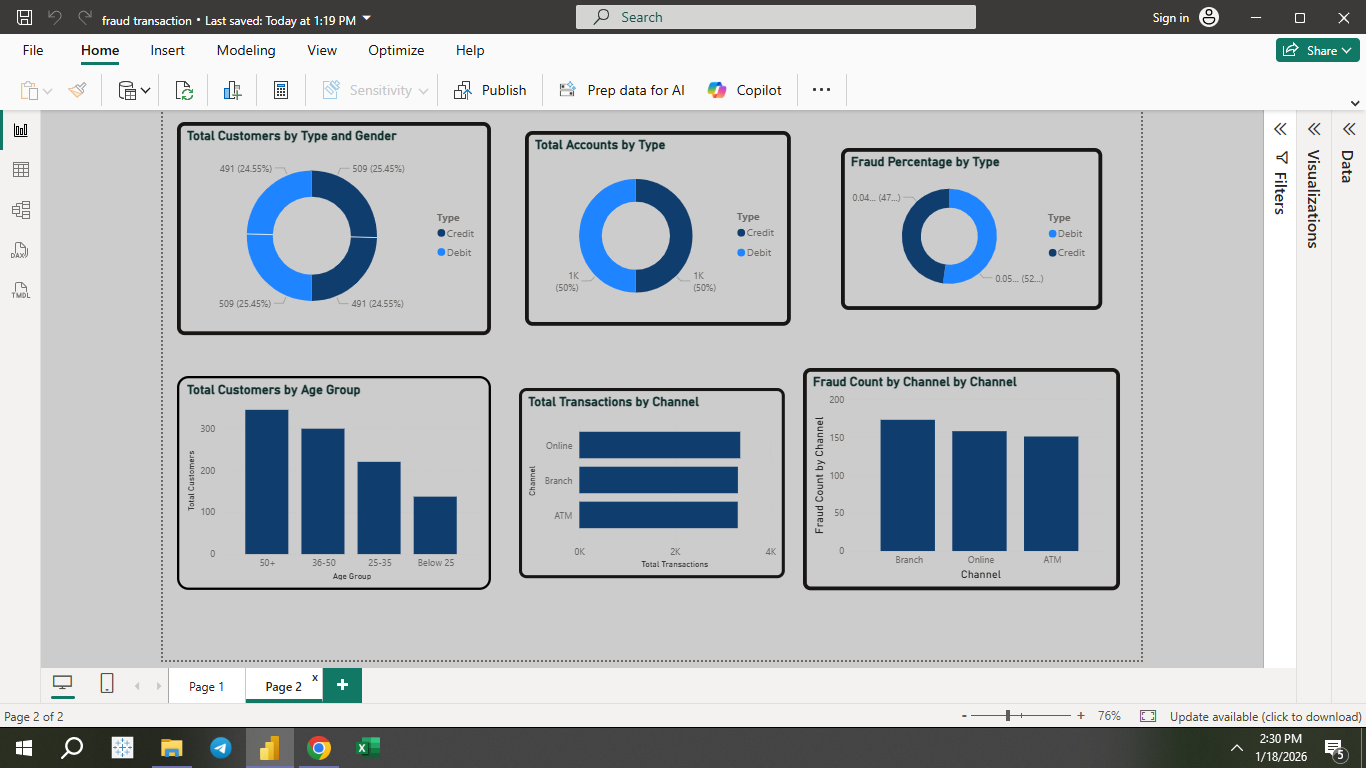

The dashboard page shown, as its layout file describes it:
{"tool":"powerbi","page":{"name":"Page 2","canvas":[1280,720],"ordinal":1},"visuals":[{"type":"clusteredColumnChart","fields":{"Category":["Customers.Age Group"],"Y":["Customers.Total Customers"]},"box":[18.3,348.2,411.1,280.1],"z":0},{"type":"donutChart","fields":{"Category":["Transactions.Type"],"Series":["Customers.Gender"],"Y":["Customers.Total Customers"]},"box":[18.3,15.7,411.1,278.8],"z":1000},{"type":"donutChart","fields":{"Category":["Transactions.Type"],"Y":["Accounts.Total Accounts"]},"box":[473.9,27.5,348.2,255.3],"z":2000},{"type":"barChart","fields":{"Category":["Transactions.Channel"],"Y":["Transactions.Total Transactions"]},"box":[466,363.9,348.2,248.7],"z":3000},{"type":"columnChart","fields":{"Category":["Transactions.Channel"],"Y":["Transactions.Fraud Count by Channel"]},"box":[837.8,337.7,415,290.6],"z":4000},{"type":"donutChart","fields":{"Category":["Transactions.Type"],"Y":["Transactions.Fraud Percentage"]},"box":[887.6,49.7,341.7,212.1],"z":5000}]}

Visuals, with their boxes on the page's 1280x720 design canvas (x1, y1, x2, y2). These are canvas units, not pixel positions in the 1366x768 screenshot, which may show the page scaled, cropped or inside an application window:
clusteredColumnChart - Customers.Age Group x Customers.Total Customers: 18 348 429 628
donutChart - Transactions.Type x Customers.Gender: 18 16 429 294
donutChart - Transactions.Type x Accounts.Total Accounts: 474 28 822 283
barChart - Transactions.Channel x Transactions.Total Transactions: 466 364 814 613
columnChart - Transactions.Channel x Transactions.Fraud Count by Channel: 838 338 1253 628
donutChart - Transactions.Type x Transactions.Fraud Percentage: 888 50 1229 262
